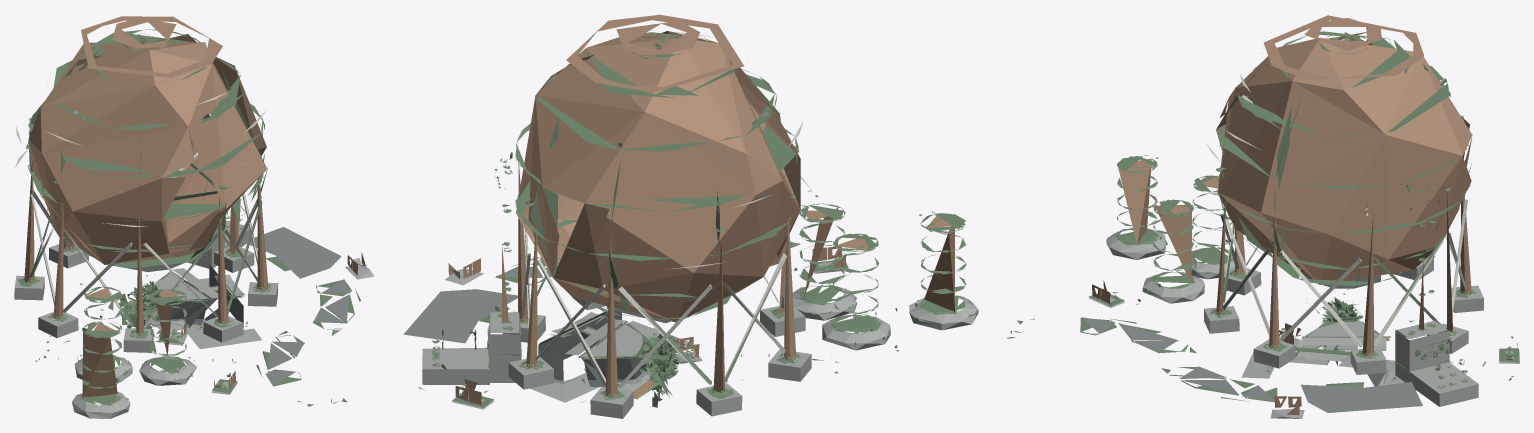
Rendered from sphere_tank.glb.
3 renders of one model, left to right at view 1: azimuth 30°, elevation 25°; view 2: azimuth 150°, elevation 25°; view 3: azimuth 270°, elevation 25°, orthographic. The views are drawn at different scales.
Visible parts, largest first — view 1: spheretank_walkway_e_LOD0, shrub_dense_LOD0, sewer_drainwall_600_LOD0, barricade_concrete_LOD0; view 2: spheretank_walkway_e_LOD0, shrub_dense_LOD0, sewer_drainwall_600_LOD0, barricade_concrete_LOD0; view 3: spheretank_walkway_e_LOD0, shrub_dense_LOD0, sewer_drainwall_600_LOD0, barricade_concrete_LOD0.
Boxes of the visible parts, x1,y1,x2,y2 form: spheretank_walkway_e_LOD0: (18,16,367,414); shrub_dense_LOD0: (14,220,374,418); sewer_drainwall_600_LOD0: (113,227,349,385); barricade_concrete_LOD0: (15,92,266,331); spheretank_walkway_e_LOD0: (418,14,977,407); shrub_dense_LOD0: (422,261,978,418); sewer_drainwall_600_LOD0: (403,243,799,386); barricade_concrete_LOD0: (468,31,810,391); spheretank_walkway_e_LOD0: (1007,14,1519,415); shrub_dense_LOD0: (1088,229,1519,418); sewer_drainwall_600_LOD0: (1081,273,1422,412); barricade_concrete_LOD0: (1206,73,1467,347).
Size of the model in its own units: 95.32 by 77.73 by 109.
